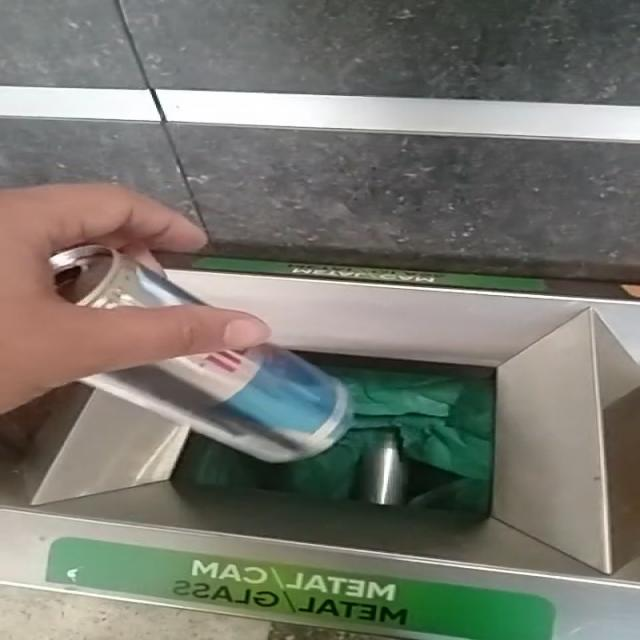bin: (0, 269, 638, 640)
metal: (80, 344, 353, 463), (49, 245, 204, 310), (363, 432, 405, 505)
